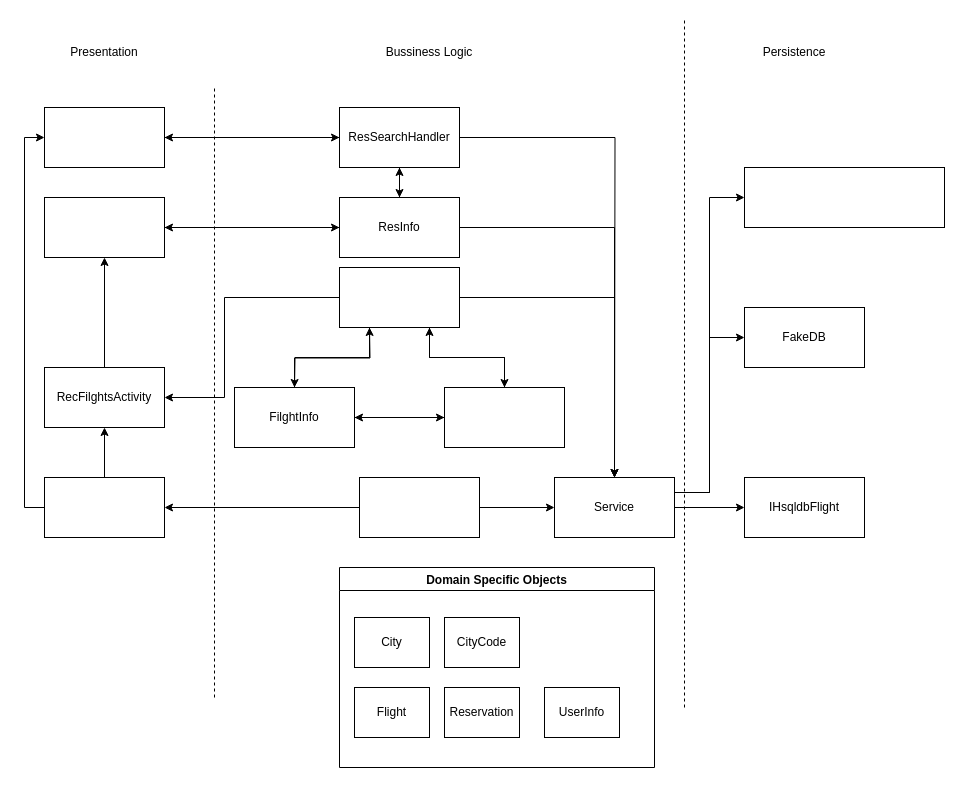
Image size: 962x785. Some labels were removed from this diagram. Each missing label, with the centre of its shape:
"AccessCityCode" goes at point 419,507.
"FilghtTable" goes at point 504,417.
"MainActivity" goes at point 104,507.
"ReservationPersistenceHSQLDB" goes at point 844,197.
"ReserveFlight" goes at point 104,227.
"Search Handler" goes at point 399,297.
"ViewReservation" goes at point 104,137.
